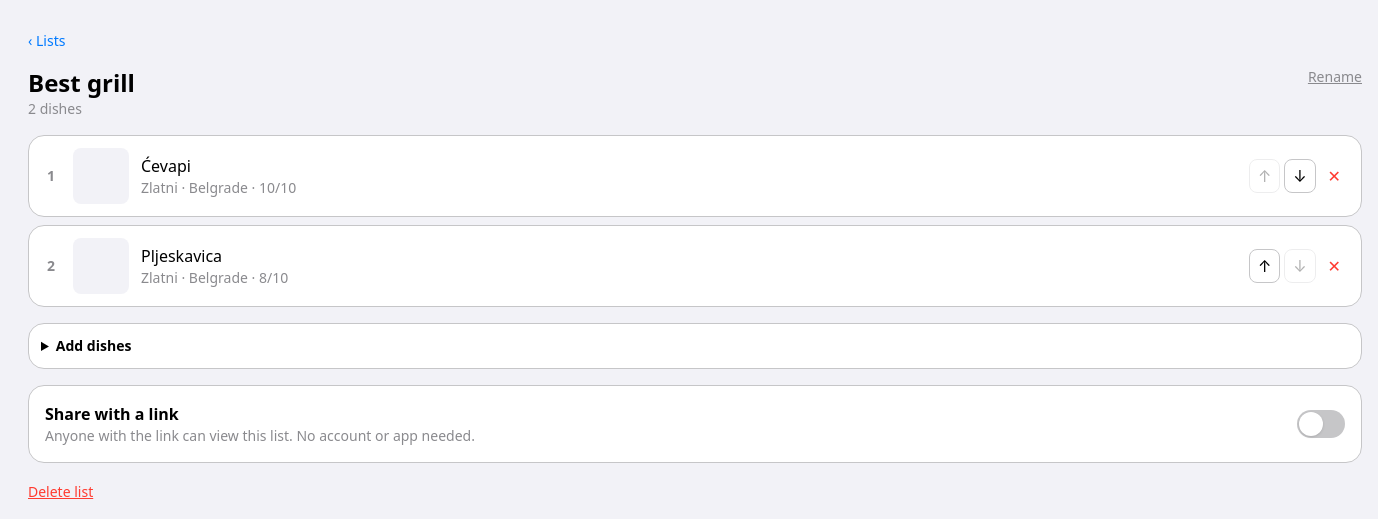
Scenario: ListDetailPage: manage › deletes the list after confirming, then returns to the Lists tab
Click the button "Delete list": (61, 492) [28,482,93,502]
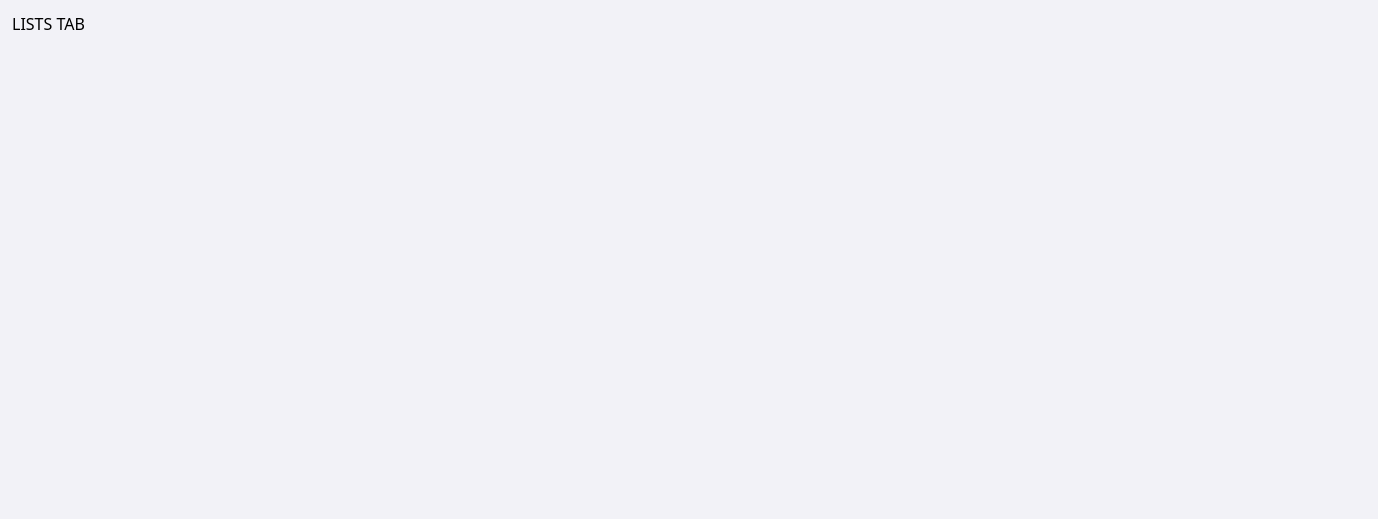
Result: the text "LISTS TAB" is shown at [12,13,85,35]
